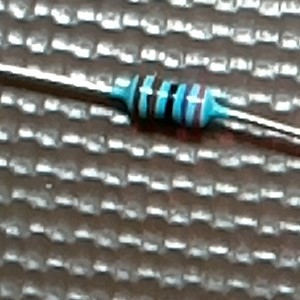black_band: (161, 82, 180, 122)
brown_band: (145, 74, 166, 123), (128, 73, 147, 122)
red_band: (191, 84, 209, 130)
violet_band: (178, 81, 195, 128)
